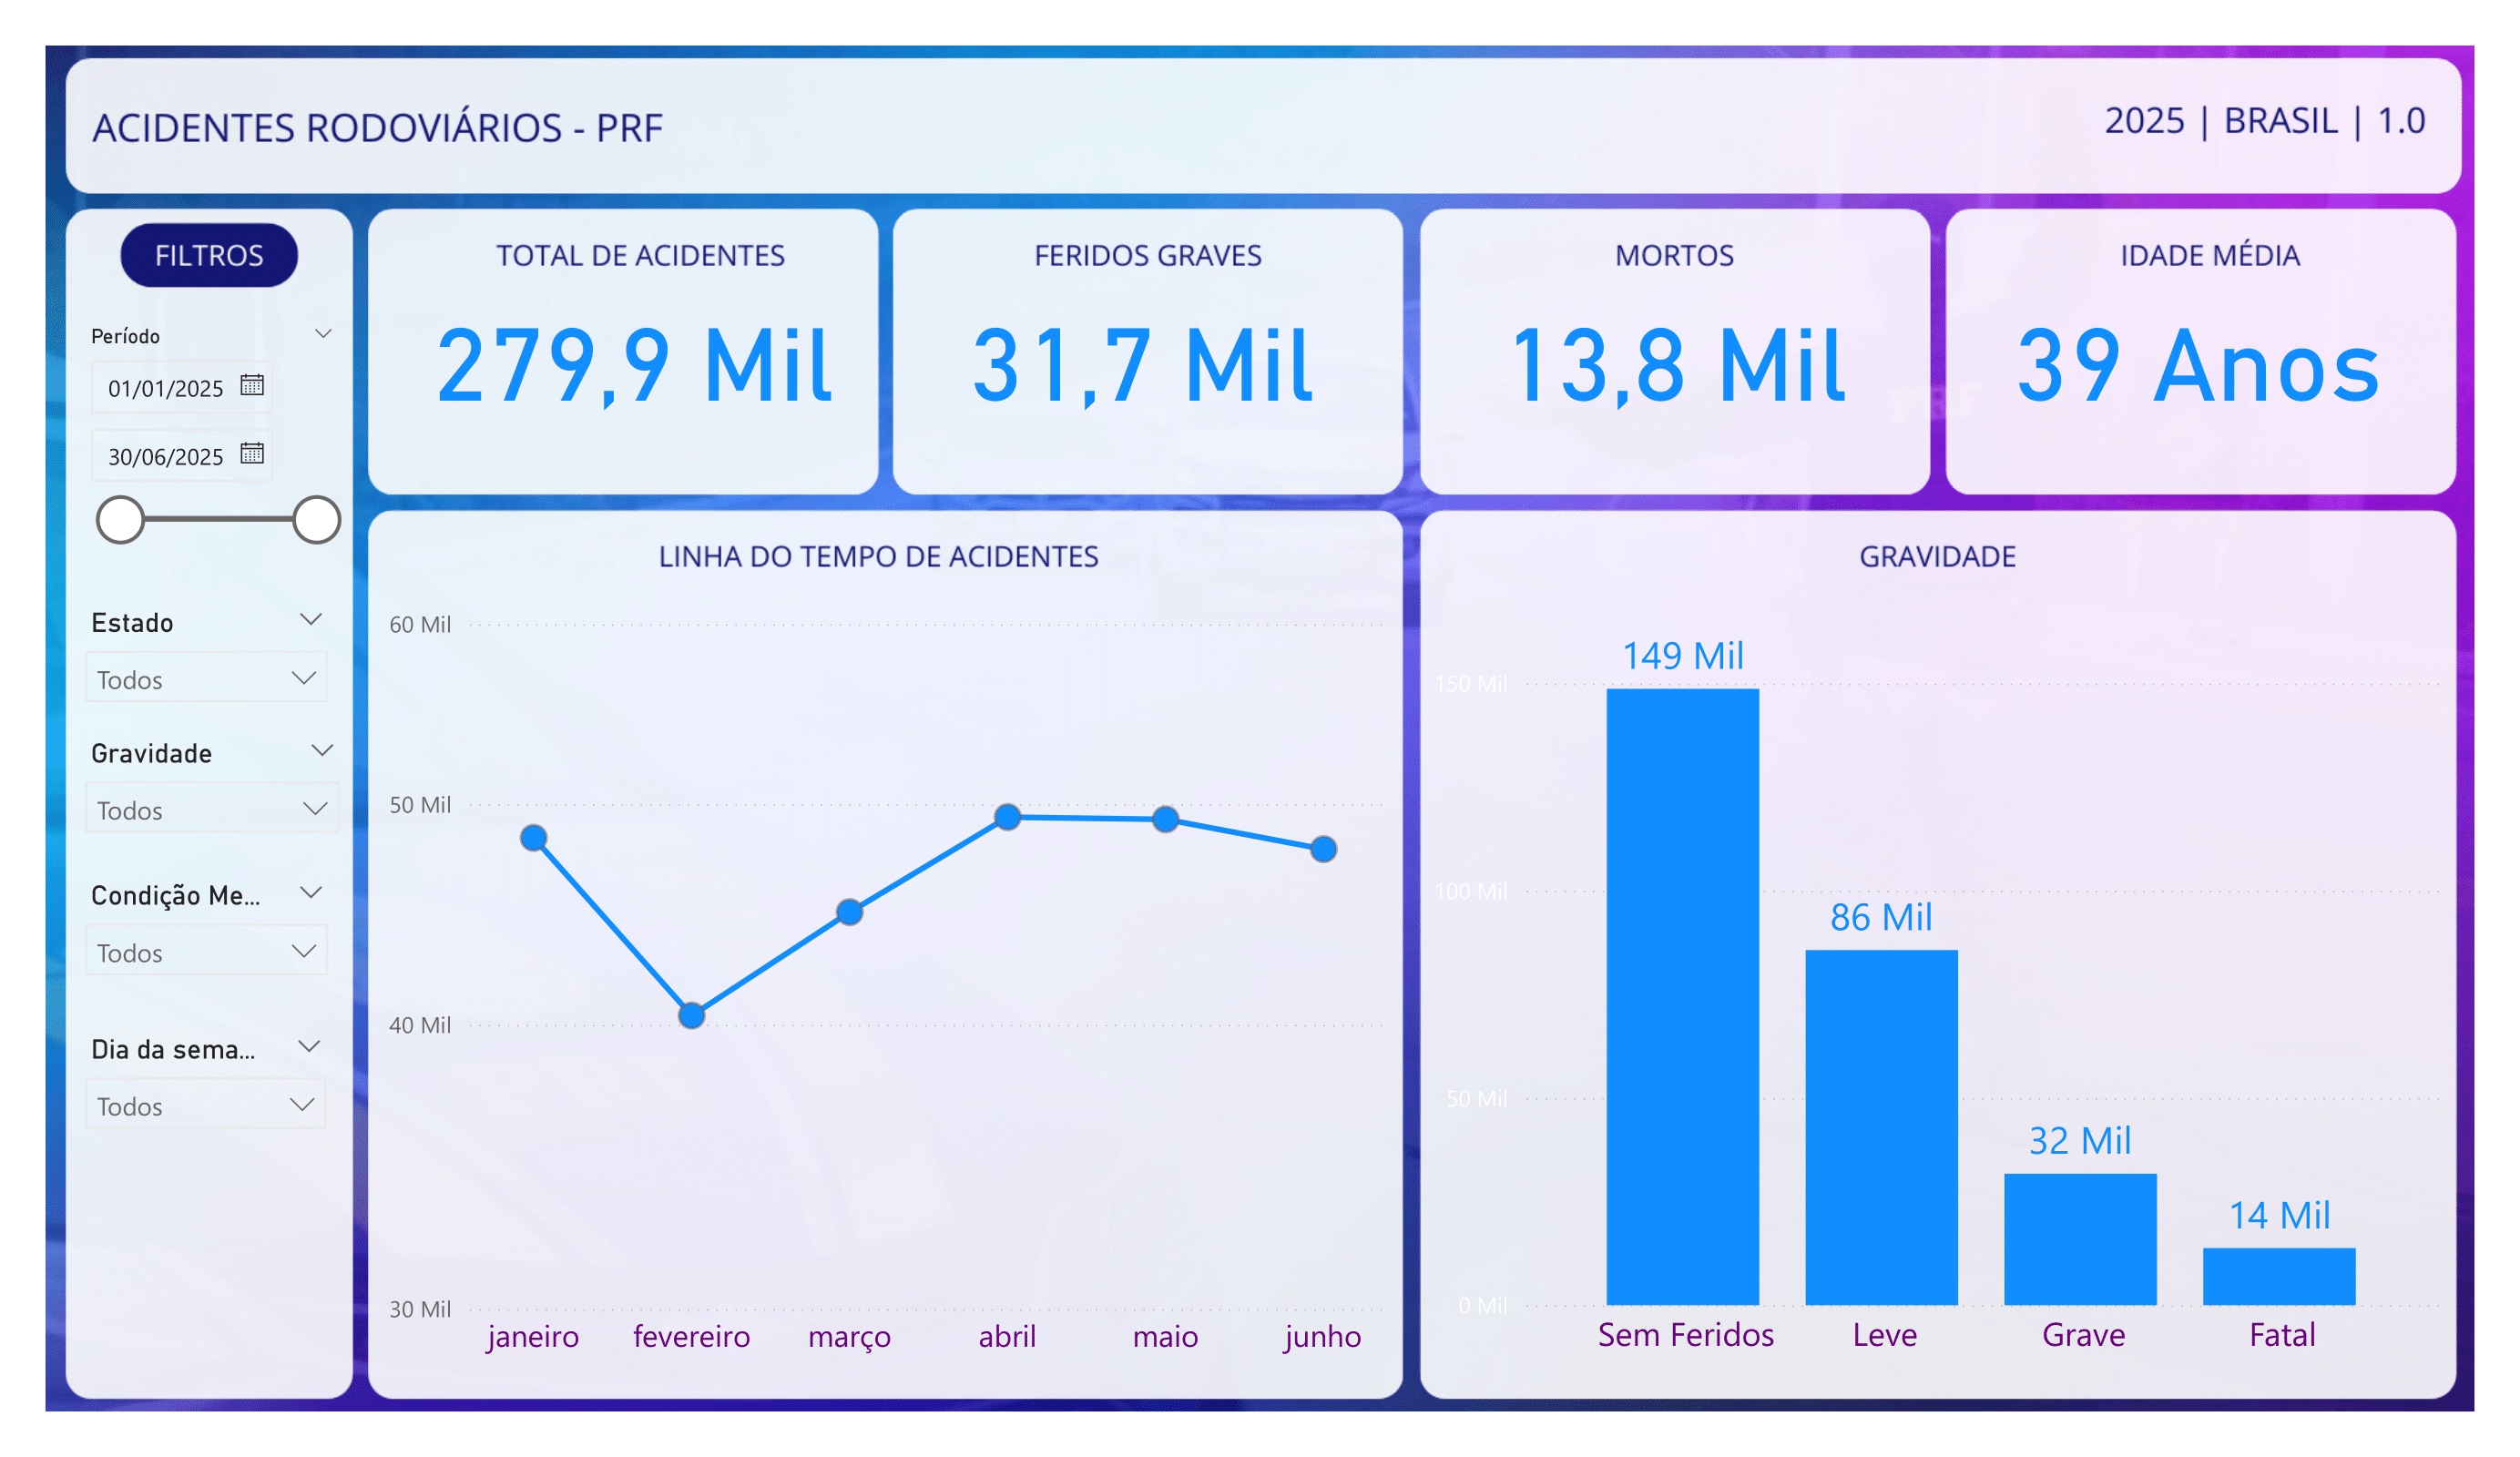

The dashboard page shown, as its layout file describes it:
{"tool":"powerbi","page":{"name":"Visão Geral","canvas":[1280,720],"ordinal":1},"visuals":[{"type":"card","fields":{"Values":["Tabela_Medidas.Total de Acidentes"]},"box":[176.1,85.7,267.9,150],"z":0},{"type":"card","fields":{"Values":["Tabela_Medidas.Mortos"]},"box":[725.7,85.7,266.4,150],"z":1000},{"type":"card","fields":{"Values":["Sum(acidentes_limpos.feridos_graves)"]},"box":[444,85.7,267.9,150],"z":2000},{"type":"lineChart","fields":{"Y":["Tabela_Medidas.Total de Acidentes"],"Category":["acidentes_limpos.data_inversa.Variation.Hierarquia de datas.Mês"]},"box":[176.1,290.9,535.9,410.3],"z":3000},{"type":"columnChart","fields":{"Y":["Tabela_Medidas.Total de Acidentes"],"Category":["acidentes_limpos.gravidade"]},"box":[725.7,290.9,542,410.3],"z":4000},{"type":"slicer","fields":{"Values":["acidentes_limpos.uf"]},"box":[10.7,290.9,148.5,65.8],"z":5000},{"type":"slicer","fields":{"Values":["acidentes_limpos.data_inversa"]},"box":[10.7,142.4,153.1,136.3],"z":6000},{"type":"slicer","fields":{"Values":["acidentes_limpos.gravidade"]},"box":[10.7,359.8,154.6,62.8],"z":7000},{"type":"card","fields":{"Values":["Tabela_Medidas.idade-media-texto"]},"box":[1001.3,85.7,266.4,150],"z":8000},{"type":"slicer","fields":{"Values":["acidentes_limpos.condicao_metereologica"]},"box":[10.7,434.8,148.5,61.2],"z":9000},{"type":"slicer","fields":{"Values":["acidentes_limpos.dia_semana"]},"box":[10.7,516,147,70.4],"z":10000}]}

Visuals, with their boxes in screenshot pixels (x1, y1, x2, y2):
card - Tabela_Medidas.Total de Acidentes: [x1=349, y1=206, x2=869, y2=497]
card - Tabela_Medidas.Mortos: [x1=1415, y1=206, x2=1933, y2=497]
card - Sum(acidentes_limpos.feridos_graves): [x1=869, y1=206, x2=1389, y2=497]
lineChart - Tabela_Medidas.Total de Acidentes x acidentes_limpos.data_inversa.Variation.Hierarquia de datas.Mês: [x1=349, y1=604, x2=1389, y2=1401]
columnChart - Tabela_Medidas.Total de Acidentes x acidentes_limpos.gravidade: [x1=1415, y1=604, x2=2468, y2=1401]
slicer - acidentes_limpos.uf: [x1=27, y1=604, x2=316, y2=732]
slicer - acidentes_limpos.data_inversa: [x1=27, y1=316, x2=324, y2=580]
slicer - acidentes_limpos.gravidade: [x1=27, y1=738, x2=328, y2=860]
card - Tabela_Medidas.idade-media-texto: [x1=1951, y1=206, x2=2468, y2=497]
slicer - acidentes_limpos.condicao_metereologica: [x1=27, y1=883, x2=316, y2=1003]
slicer - acidentes_limpos.dia_semana: [x1=27, y1=1041, x2=312, y2=1177]
